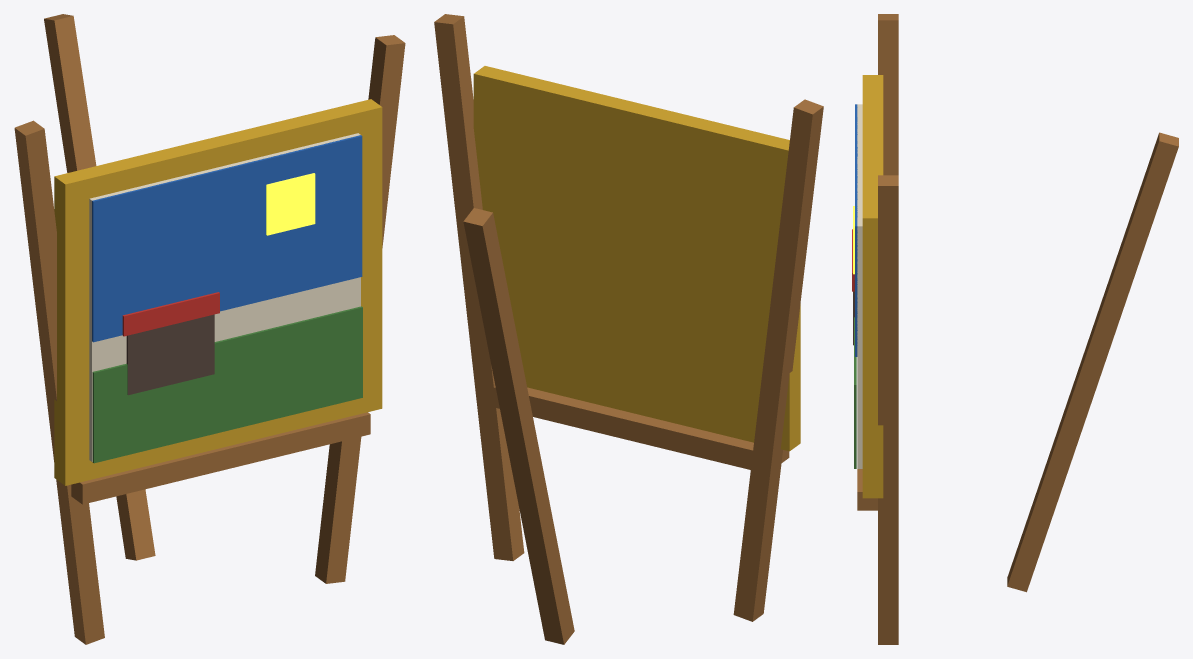
The model's file is painting.glb.
3 views of the same model, side by side, from view 1: azimuth 30°, elevation 25°; view 2: azimuth 150°, elevation 25°; view 3: azimuth 270°, elevation 25° (orthographic). The views are drawn at different scales.
Parts seen in each view (by area): view 1: painting; view 2: painting; view 3: painting.
Boxes of the visible parts, <box> form: painting: <box>14,14,405,644</box>; painting: <box>434,14,823,644</box>; painting: <box>852,14,1178,644</box>.
Bounding box in the file's own units: 0.7911 × 1.05 × 0.6351.
